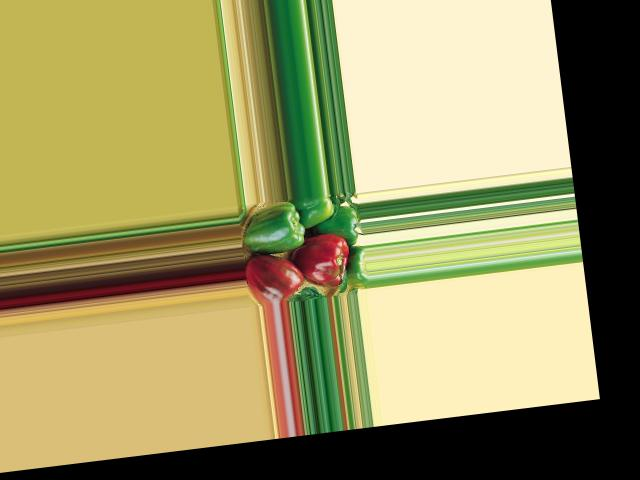bell_pepper: (243, 253, 306, 305)
